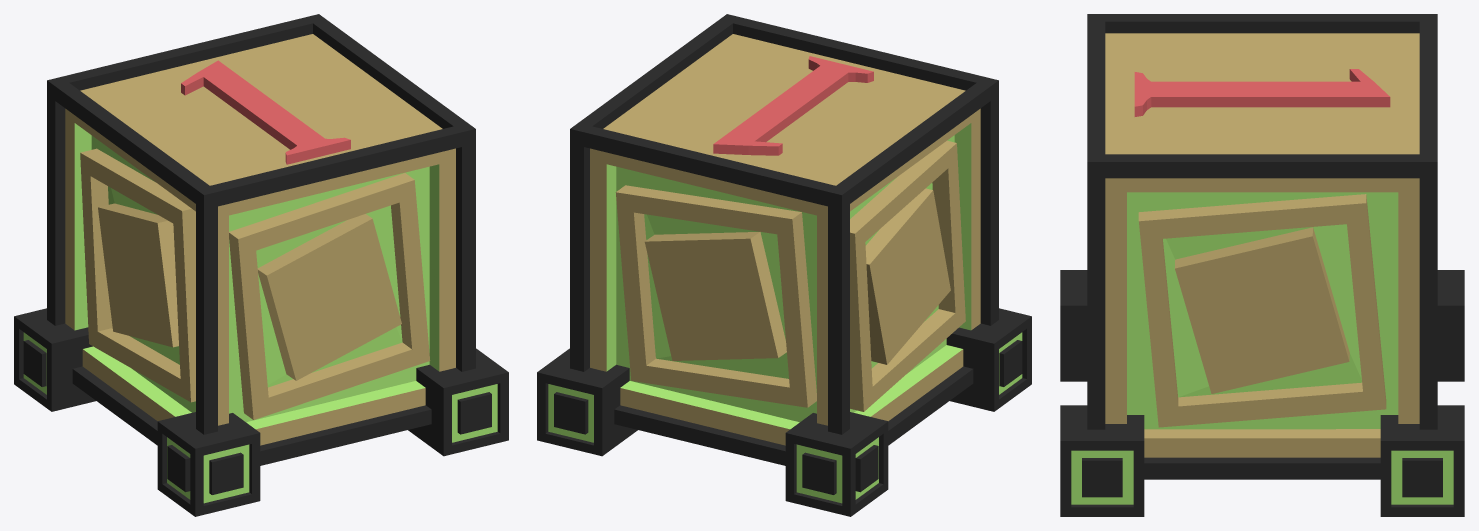
File: BasicBlock1.fbx
The picture shows the model from 3 angles, left to right: view 1: azimuth 30°, elevation 25°; view 2: azimuth 150°, elevation 25°; view 3: azimuth 270°, elevation 25°; orthographic projection. The views are drawn at different scales.
Parts seen in each view (by area): view 1: Mesh; view 2: Mesh; view 3: Mesh.
Part boxes in pixels (<box>): Mesh: <box>14,14,508,516</box>; Mesh: <box>537,14,1031,516</box>; Mesh: <box>1060,14,1464,516</box>.
Bounding box in the file's own units: 0.7928 × 0.7434 × 0.7928.
